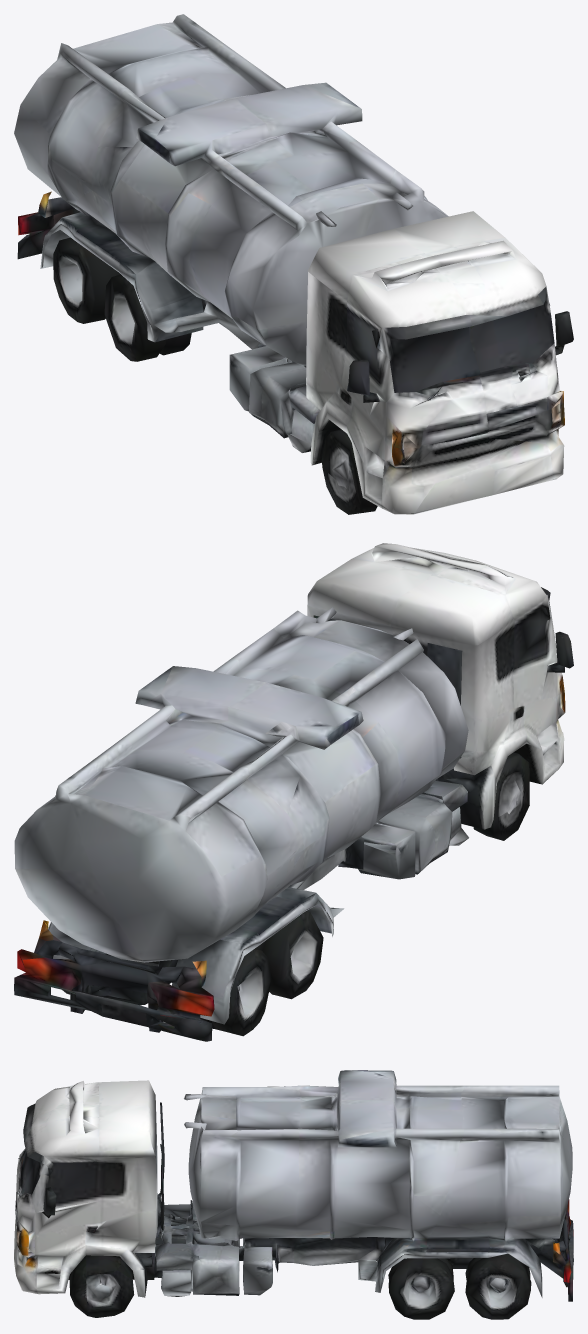
The model's file is cisterna.glb.
3 views of the same model, one above another, from view 1: azimuth 30°, elevation 25°; view 2: azimuth 150°, elevation 25°; view 3: azimuth 270°, elevation 25° (orthographic). The views are drawn at different scales.
Visible parts, largest first — view 1: tripo_node_8fbef8be-025d-44ea-8884-4774df49d6cf; view 2: tripo_node_8fbef8be-025d-44ea-8884-4774df49d6cf; view 3: tripo_node_8fbef8be-025d-44ea-8884-4774df49d6cf.
Boxes of the visible parts, x1,y1,x2,y2 form: tripo_node_8fbef8be-025d-44ea-8884-4774df49d6cf: (14, 14, 573, 514); tripo_node_8fbef8be-025d-44ea-8884-4774df49d6cf: (14, 543, 573, 1041); tripo_node_8fbef8be-025d-44ea-8884-4774df49d6cf: (14, 1070, 573, 1319).
Size of the model in its own units: 0.346 by 0.3699 by 0.998.
1 material, 1 textured.
